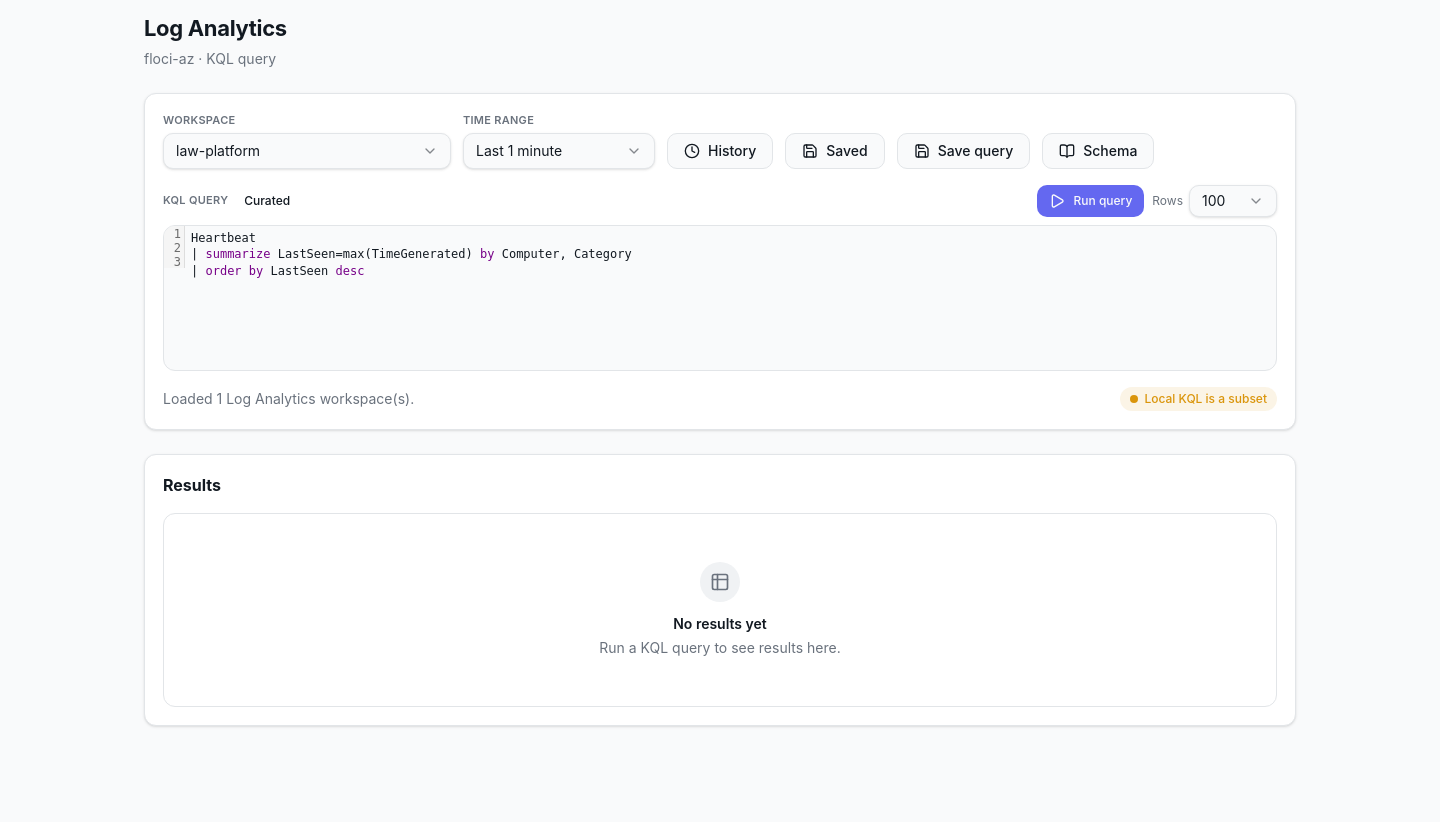
LogAnalyticsView › runs a KQL query and renders the result table
Click the button "Run query" at point(1091, 200), box [1038,184,1144,216]
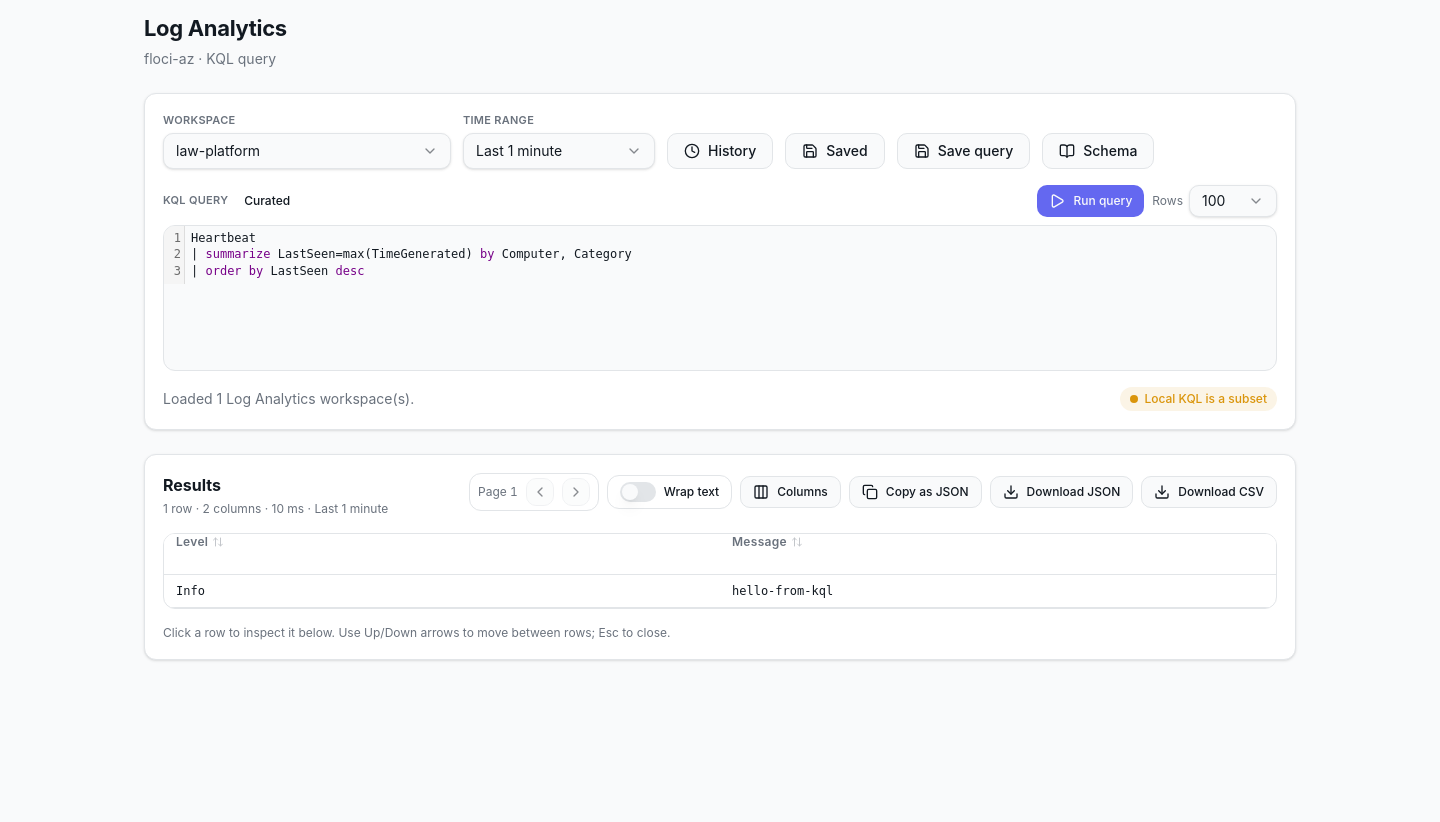
Result: the text "hello-from-kql" is shown at [732,584,833,598]
Result: the button "Message" is shown at [732,534,803,550]
Result: the text "1 row · 2 columns · 10 ms · Last 1 minute" is shown at [163,500,388,516]
